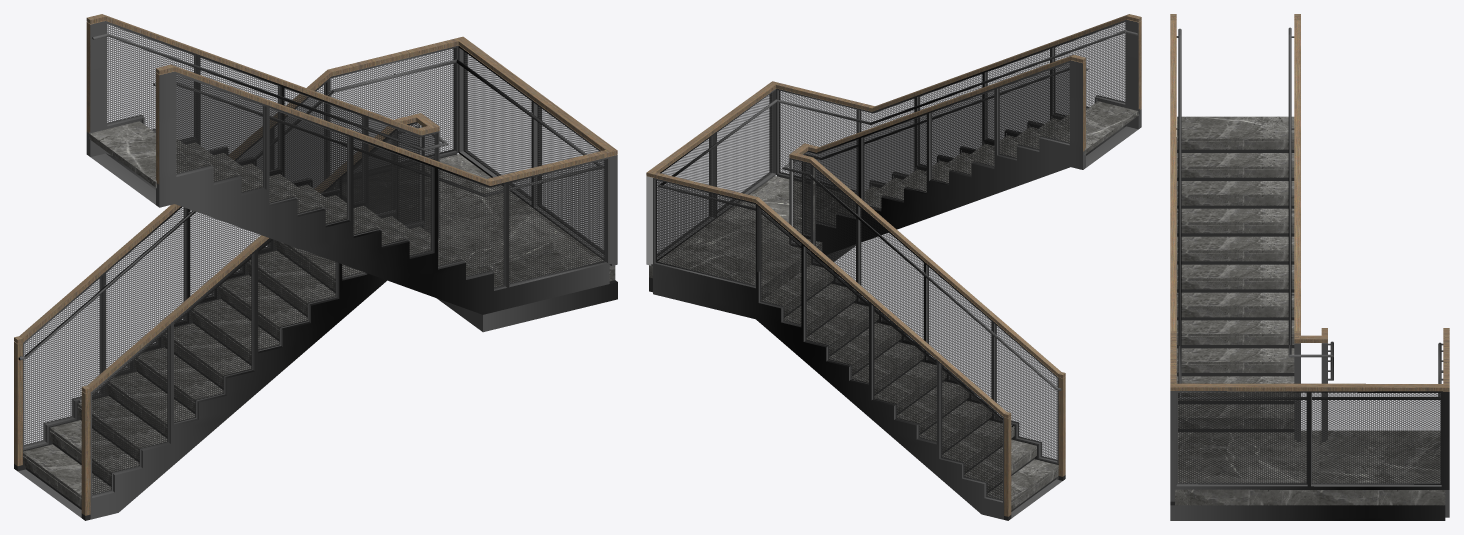
3 views of the same model, side by side, from view 1: azimuth 30°, elevation 25°; view 2: azimuth 150°, elevation 25°; view 3: azimuth 270°, elevation 25° (orthographic). The views are drawn at different scales.
Visible parts, largest first — view 1: Group27, Group23, Group30, Group26, Group13, Group34, Group35, Group17, Group25, Group9, Group8, Group11 (+18 smaller); view 2: Group27, Group13, Group17, Group11, Group23, Group30, Group12, Group8, Group9, Group19, Group35, Group34 (+18 smaller); view 3: Group27, Group4, Group3, Group28, Group31, Group17, Group23, Group40, Group65, Group30, Group13.
Part boxes in pixels (x1,y1,x2,y2): Group27: (23,121,615,509); Group23: (156,64,609,314); Group30: (81,115,424,520); Group26: (509,159,605,285); Group13: (14,38,458,471); Group34: (174,254,253,424); Group35: (92,327,169,496); Group17: (86,14,439,239); Group25: (176,74,264,193); Group9: (24,277,101,446); Group8: (106,207,185,370); Group11: (330,48,455,172); Group27: (649,101,1138,511); Group13: (653,172,1011,520); Group17: (801,55,1085,254); Group11: (655,180,755,286); Group23: (776,14,1141,195); Group30: (789,154,1065,480); Group12: (805,247,868,384); Group8: (873,306,936,442); Group9: (940,364,1002,500); Group19: (998,62,1069,158); Group35: (995,324,1057,460); Group34: (927,266,991,400); Group27: (1175,116,1445,505); Group4: (1177,392,1307,484); Group3: (1311,392,1441,484); Group28: (1170,383,1449,489); Group31: (1170,501,1445,520); Group17: (1294,14,1300,441); Group23: (1170,14,1176,501); Group40: (1178,28,1441,399); Group65: (1288,27,1333,380); Group30: (1321,328,1327,441); Group13: (1443,328,1449,517).
Bounding box in the file's own units: 4425 × 4736 × 2595.
